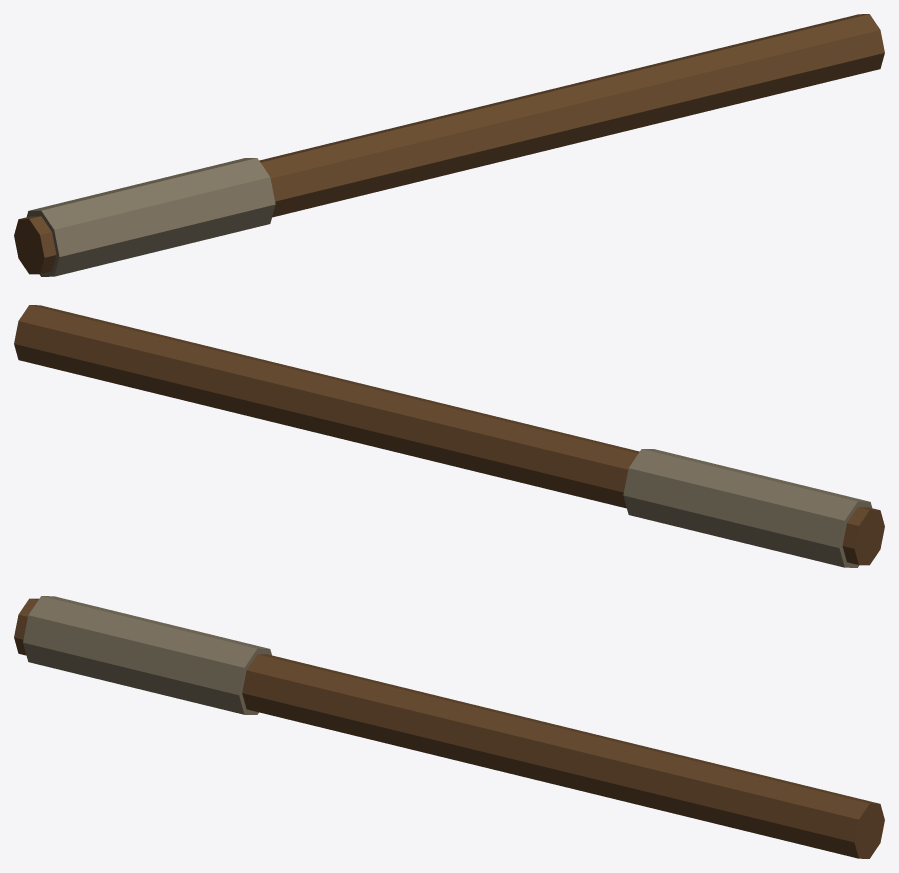
The model's file is wooden handle.glb.
3 renders of one model, top to bottom at view 1: azimuth 30°, elevation 25°; view 2: azimuth 150°, elevation 25°; view 3: azimuth 330°, elevation 25°, orthographic.
Parts seen in each view (by area): view 1: wooden handle; view 2: wooden handle; view 3: wooden handle.
Boxes of the visible parts, <box> form: wooden handle: <box>14,14,884,276</box>; wooden handle: <box>14,305,884,567</box>; wooden handle: <box>14,596,884,858</box>.
Bounding box in the file's own units: 0.7 × 0.0528 × 0.0528.
